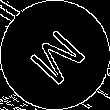M_SE: (21, 21, 89, 89)
